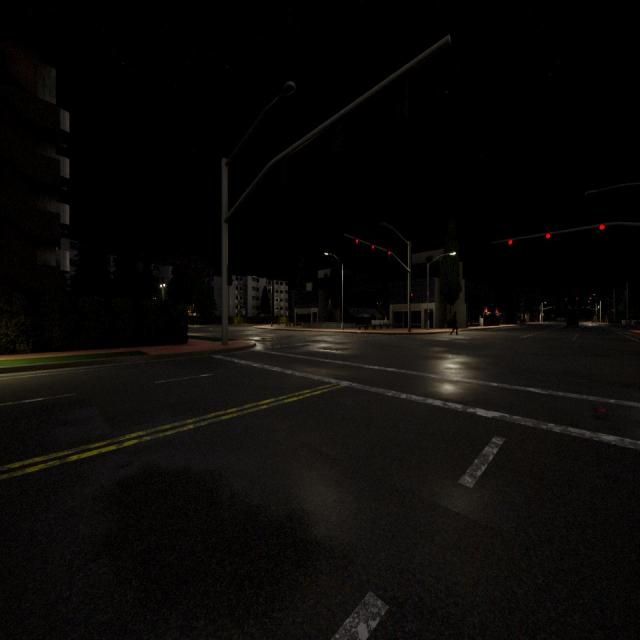Pedestrian: (450, 311, 460, 336)
Vehicle: (566, 314, 580, 330)
traffic_light: (227, 264, 233, 286), (409, 292, 413, 303), (600, 224, 605, 230), (546, 233, 550, 239), (508, 240, 512, 244), (356, 238, 358, 244), (589, 296, 592, 300), (372, 245, 374, 250), (388, 250, 390, 255), (612, 309, 615, 312), (576, 297, 578, 300), (565, 298, 567, 300)
